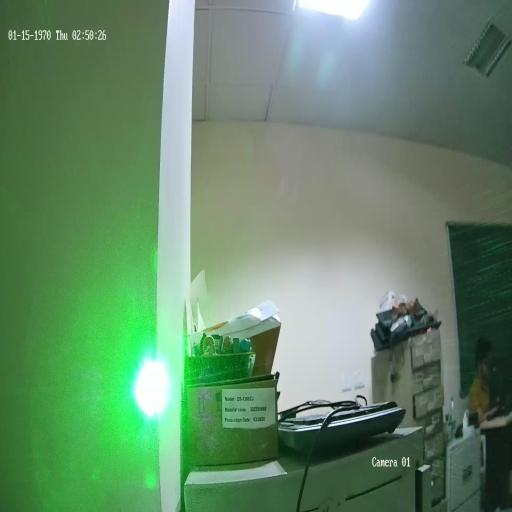laser: (124, 319, 180, 437)
